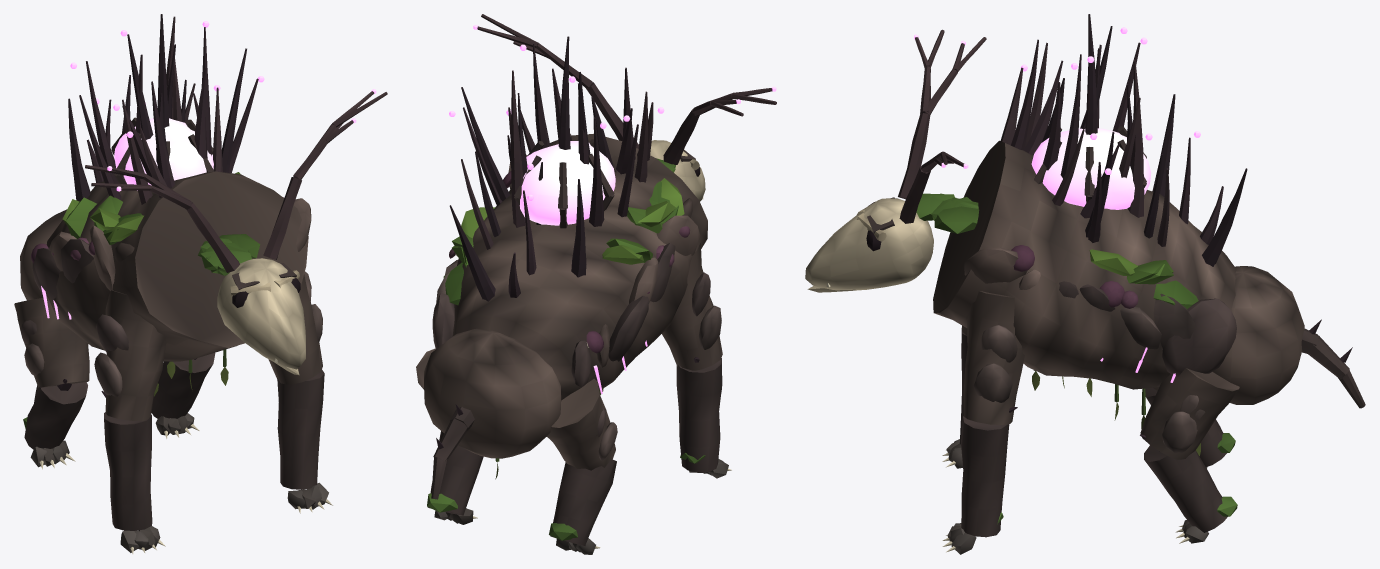
Rendered from thornback.glb.
3 renders of one model, left to right at view 1: azimuth 30°, elevation 25°; view 2: azimuth 150°, elevation 25°; view 3: azimuth 270°, elevation 25°, orthographic. The views are drawn at different scales.
Visible parts, largest first — view 1: Body, Head, LegFL, LegBL, LegFR, LegBR, Sac; view 2: Body, LegFL, LegBL, Sac, Head, LegBR, Tail; view 3: Body, Head, LegFR, LegBR, Sac, Tail, LegBL, LegFL.
Boxes of the visible parts, x1=… form: Body: x1=20, y1=14, x2=311, y2=396; Head: x1=85, y1=89, x2=387, y2=369; LegFL: x1=94, y1=290, x2=166, y2=553; LegBL: x1=14, y1=297, x2=89, y2=469; LegFR: x1=268, y1=271, x2=332, y2=513; LegBR: x1=151, y1=353, x2=215, y2=438; Sac: x1=111, y1=117, x2=214, y2=190; Body: x1=424, y1=36, x2=707, y2=479; LegFL: x1=662, y1=242, x2=731, y2=478; LegBL: x1=547, y1=378, x2=617, y2=554; Sac: x1=514, y1=134, x2=616, y2=228; Head: x1=473, y1=14, x2=776, y2=201; LegBR: x1=416, y1=348, x2=483, y2=524; Tail: x1=431, y1=404, x2=474, y2=499; Body: x1=933, y1=14, x2=1304, y2=455; Head: x1=805, y1=29, x2=986, y2=290; LegFR: x1=942, y1=291, x2=1024, y2=554; LegBR: x1=1140, y1=368, x2=1239, y2=543; Sac: x1=1031, y1=126, x2=1151, y2=209; Tail: x1=1301, y1=319, x2=1365, y2=408; LegBL: x1=1145, y1=386, x2=1235, y2=468; LegFL: x1=942, y1=325, x2=967, y2=468.
Bounding box in the file's own units: 2.92 × 4.43 × 4.57.
